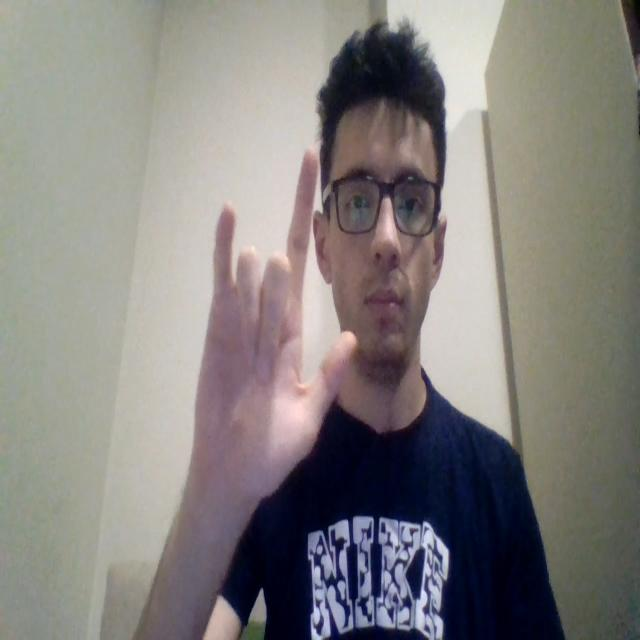iloveyou: (190, 148, 358, 511)
